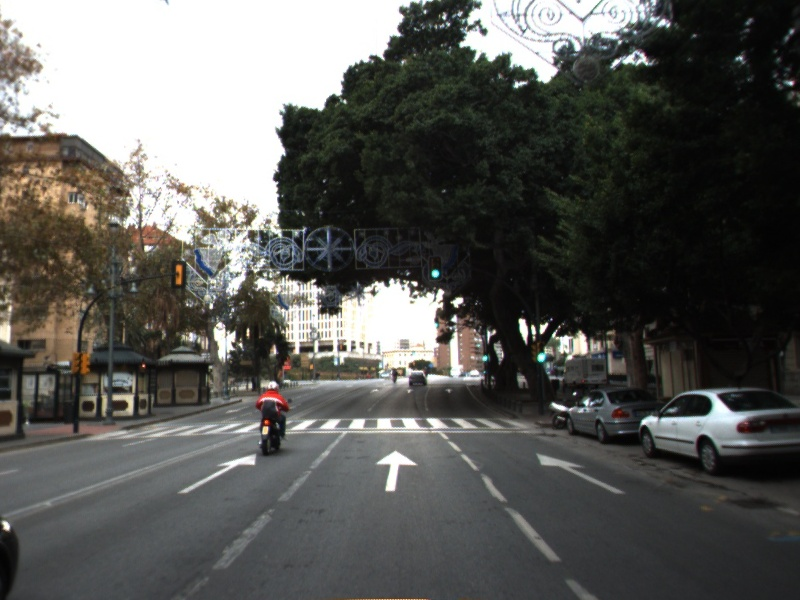STRAIGHT: (534, 451, 630, 496), (175, 451, 259, 495), (372, 448, 421, 493)
